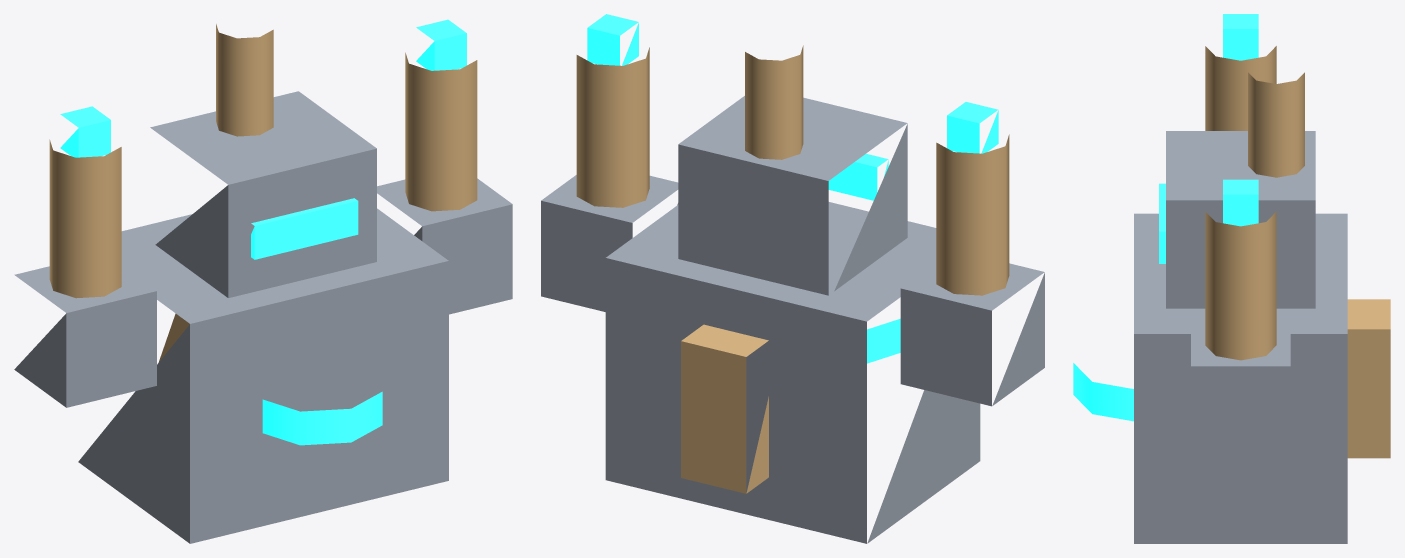
The model's file is golem_galvanic_05.glb.
3 renders of one model, left to right at view 1: azimuth 30°, elevation 25°; view 2: azimuth 150°, elevation 25°; view 3: azimuth 270°, elevation 25°, orthographic. The views are drawn at different scales.
Visible parts, largest first — view 1: GalvanicBody, GalvanicCoils, GalvanicGlow; view 2: GalvanicBody, GalvanicCoils, GalvanicGlow; view 3: GalvanicBody, GalvanicCoils, GalvanicGlow.
Boxes of the visible parts, left/top/right/bottom form: GalvanicBody: left=14, top=91, right=512, bottom=543; GalvanicCoils: left=49, top=24, right=477, bottom=362; GalvanicGlow: left=60, top=19, right=466, bottom=445; GalvanicBody: left=541, top=96, right=1044, bottom=543; GalvanicCoils: left=576, top=45, right=1009, bottom=493; GalvanicGlow: left=587, top=14, right=998, bottom=363; GalvanicBody: left=1134, top=131, right=1347, bottom=543; GalvanicCoils: left=1205, top=46, right=1390, bottom=458; GalvanicGlow: left=1073, top=14, right=1258, bottom=421.
Size of the model in its own units: 1.38 by 1.28 by 0.89.
